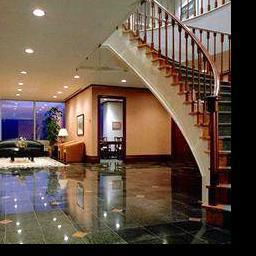Escaleras: (119, 19, 230, 226)
